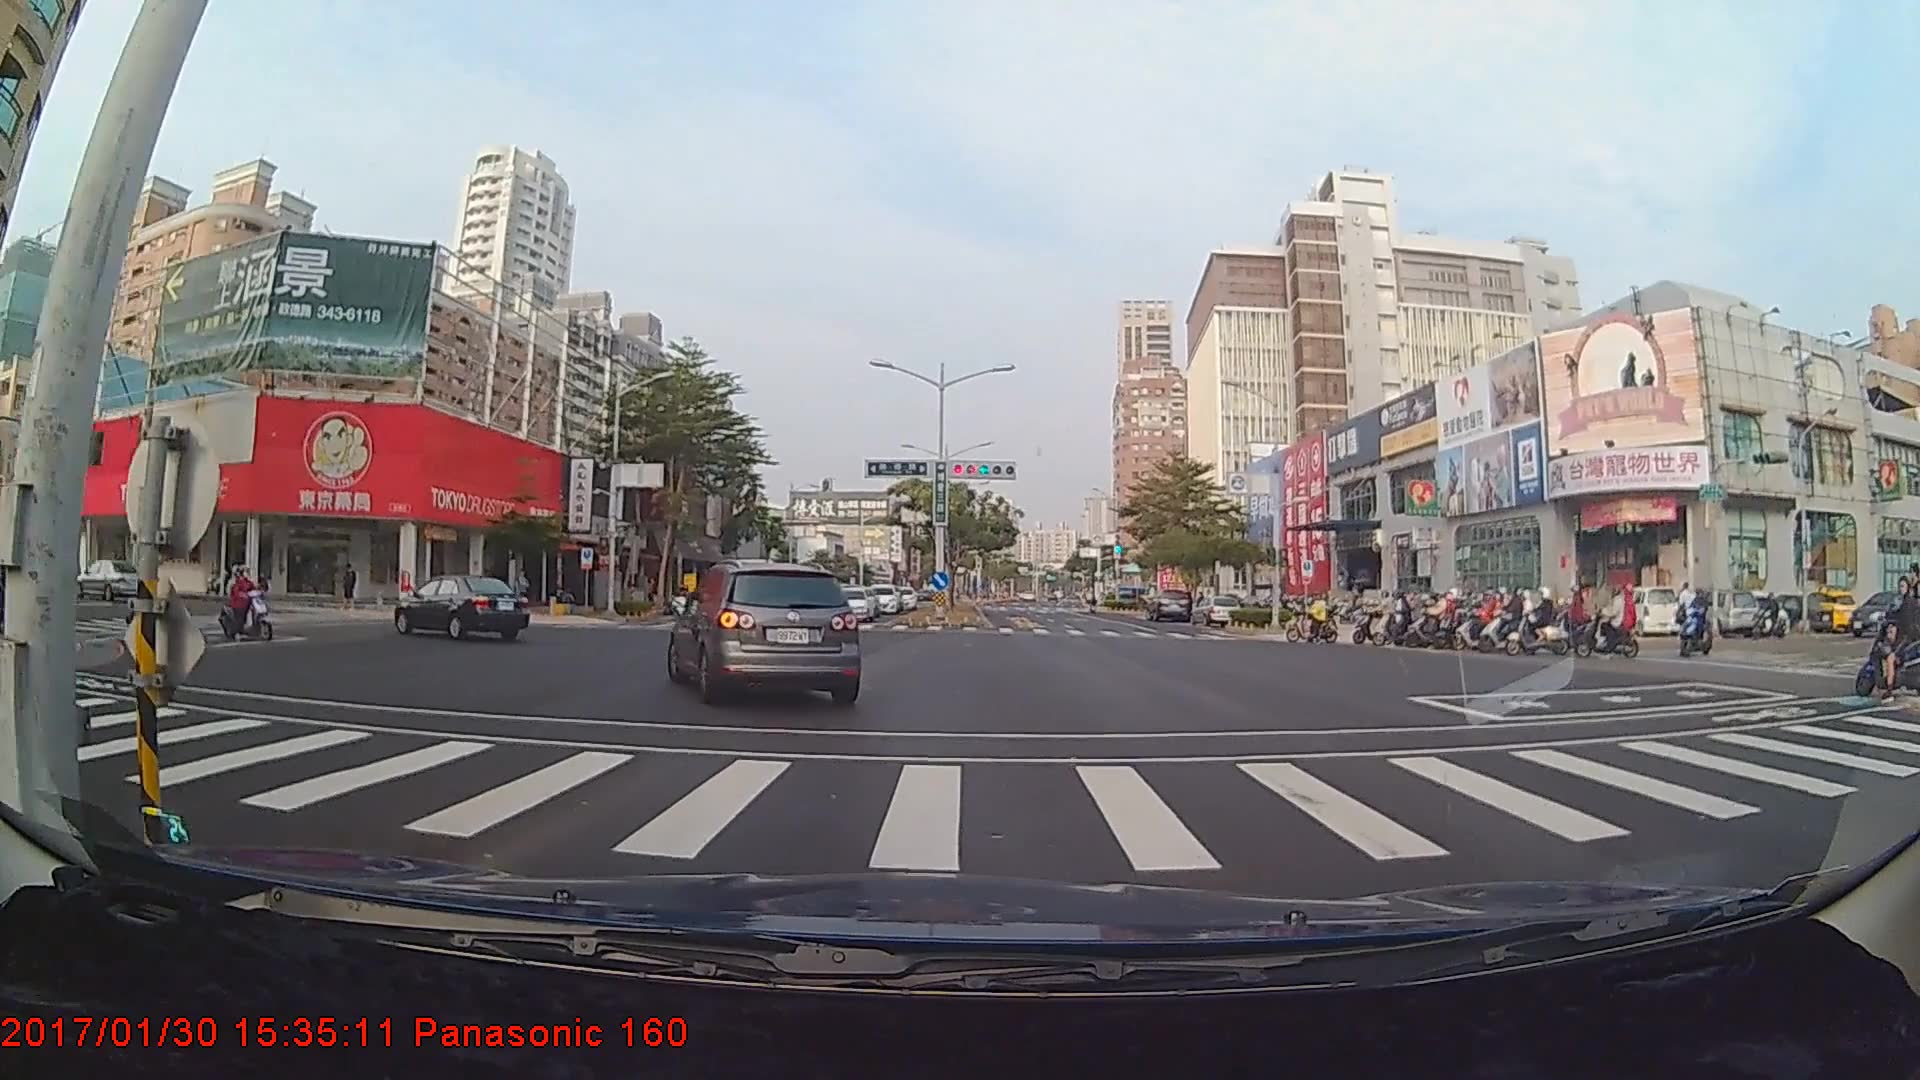rider: (1850, 563, 1920, 703), (1571, 578, 1642, 665), (215, 568, 278, 642), (1506, 586, 1571, 656), (1344, 591, 1409, 646), (1479, 589, 1538, 649), (1282, 587, 1339, 641), (1387, 591, 1441, 647), (1677, 590, 1718, 661), (670, 584, 696, 622)
vehicle: (670, 555, 863, 702), (396, 572, 529, 642), (69, 557, 150, 600), (825, 585, 875, 622), (1146, 587, 1192, 623), (864, 581, 902, 612)
